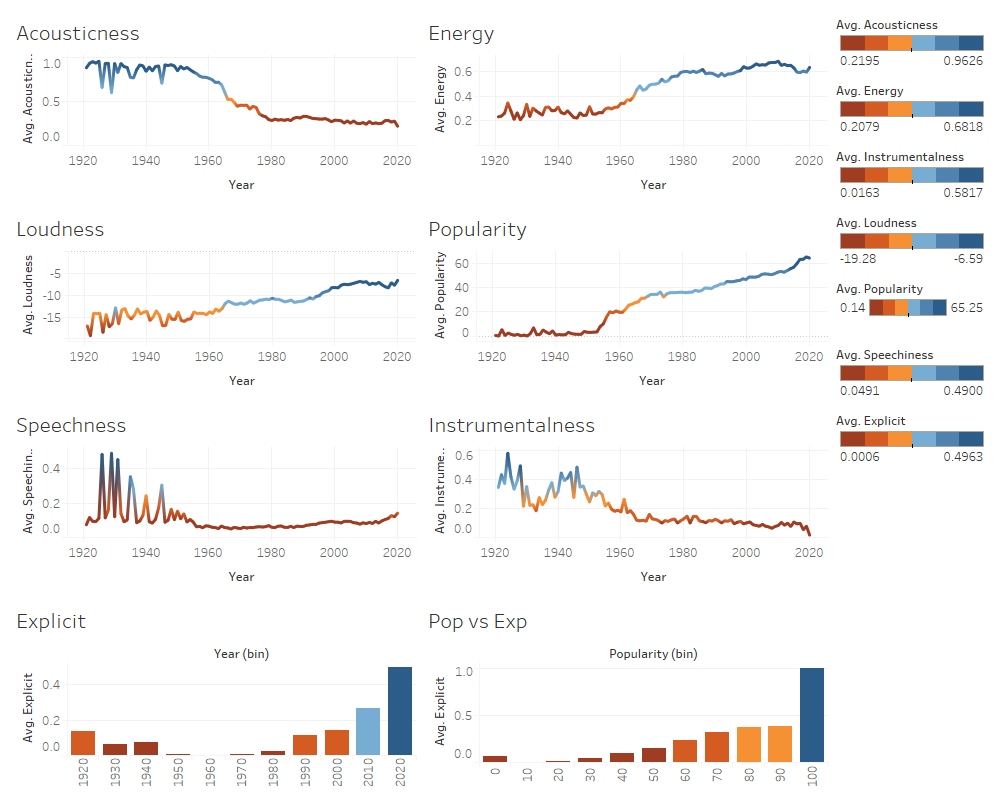

The page's visual inventory and layout, read from the dashboard file:
{"tool":"tableau","page":{"name":"Dashboard 1","canvas":[1000,800],"ordinal":0},"visuals":[{"type":"worksheet","box":[0,0,1000,800]},{"type":"worksheet","param":"horz","box":[8,8,984,784]},{"type":"worksheet","box":[8,8,824,784]},{"type":"worksheet","title":"Acousticness","mark":"Automatic","rows":["acousticness"],"cols":["year"],"box":[8,8,412,196]},{"type":"worksheet","title":"Energy","mark":"Automatic","rows":["energy"],"cols":["year"],"box":[420,8,412,196]},{"type":"worksheet","param":"vert","box":[832,8,160,784]},{"type":"worksheet","title":"Acousticness","mark":"Automatic","rows":["acousticness"],"cols":["year"],"param":"[federated.0wfqspt1odgcxp177hq7a1dj1t1k].[avg:acousticness:qk]","box":[832,8,160,65]},{"type":"worksheet","title":"Energy","mark":"Automatic","rows":["energy"],"cols":["year"],"param":"[federated.0wfqspt1odgcxp177hq7a1dj1t1k].[avg:energy:qk]","box":[832,73,160,65]},{"type":"worksheet","title":"Instrumentalness","mark":"Automatic","rows":["instrumentalness"],"cols":["year"],"param":"[federated.0wfqspt1odgcxp177hq7a1dj1t1k].[avg:instrumentalness:qk]","box":[832,138,160,65]},{"type":"worksheet","title":"Loudness","mark":"Automatic","rows":["loudness"],"cols":["year"],"param":"[federated.0wfqspt1odgcxp177hq7a1dj1t1k].[avg:loudness:qk]","box":[832,203,160,65]},{"type":"worksheet","title":"Loudness","mark":"Automatic","rows":["loudness"],"cols":["year"],"box":[8,204,412,196]},{"type":"worksheet","title":"Popularity","mark":"Automatic","rows":["popularity"],"cols":["year"],"box":[420,204,412,196]},{"type":"worksheet","title":"Popularity","mark":"Automatic","rows":["popularity"],"cols":["year"],"param":"[federated.0wfqspt1odgcxp177hq7a1dj1t1k].[avg:popularity:qk]","box":[832,268,160,65]},{"type":"worksheet","title":"Speechness","mark":"Automatic","rows":["speechiness"],"cols":["year"],"param":"[federated.0wfqspt1odgcxp177hq7a1dj1t1k].[avg:speechiness:qk]","box":[832,333,160,65]},{"type":"worksheet","title":"Explicit","mark":"Automatic","rows":["explicit"],"cols":["Year (bin)"],"param":"[federated.0wfqspt1odgcxp177hq7a1dj1t1k].[avg:explicit:qk]","box":[832,398,160,65]},{"type":"worksheet","title":"Speechness","mark":"Automatic","rows":["speechiness"],"cols":["year"],"box":[8,400,412,196]},{"type":"worksheet","title":"Instrumentalness","mark":"Automatic","rows":["instrumentalness"],"cols":["year"],"box":[420,400,412,196]},{"type":"worksheet","title":"Explicit","mark":"Automatic","rows":["explicit"],"cols":["Year (bin)"],"box":[8,596,412,196]},{"type":"worksheet","title":"Pop vs Exp","mark":"Automatic","rows":["explicit"],"cols":["Popularity (bin)"],"box":[420,596,412,196]}]}

Visuals, with their boxes in screenshot pixels (x1, y1, x2, y2), scaled from the page's 1000x800 canvas onto the 1000x800 screenshot:
worksheet: left=0, top=0, right=999, bottom=799
worksheet: left=8, top=8, right=992, bottom=792
worksheet: left=8, top=8, right=832, bottom=792
"Acousticness" worksheet: left=8, top=8, right=420, bottom=204
"Energy" worksheet: left=420, top=8, right=832, bottom=204
worksheet: left=832, top=8, right=992, bottom=792
"Acousticness" worksheet: left=832, top=8, right=992, bottom=73
"Energy" worksheet: left=832, top=73, right=992, bottom=138
"Instrumentalness" worksheet: left=832, top=138, right=992, bottom=203
"Loudness" worksheet: left=832, top=203, right=992, bottom=268
"Loudness" worksheet: left=8, top=204, right=420, bottom=400
"Popularity" worksheet: left=420, top=204, right=832, bottom=400
"Popularity" worksheet: left=832, top=268, right=992, bottom=333
"Speechness" worksheet: left=832, top=333, right=992, bottom=398
"Explicit" worksheet: left=832, top=398, right=992, bottom=463
"Speechness" worksheet: left=8, top=400, right=420, bottom=596
"Instrumentalness" worksheet: left=420, top=400, right=832, bottom=596
"Explicit" worksheet: left=8, top=596, right=420, bottom=792
"Pop vs Exp" worksheet: left=420, top=596, right=832, bottom=792
